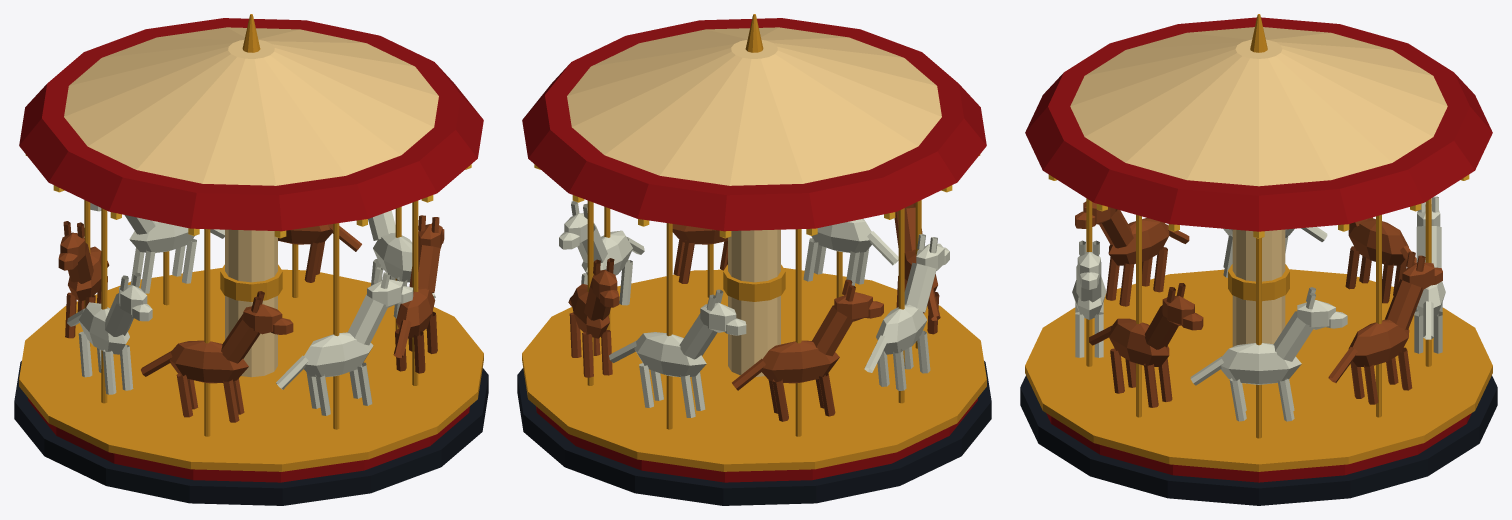
File: LowPolyMerryGoRound.dae
3 views of the same model, side by side, from view 1: azimuth 30°, elevation 25°; view 2: azimuth 150°, elevation 25°; view 3: azimuth 270°, elevation 25° (orthographic).
Parts seen in each view (by area): view 1: Platform_Trim, Canopy_Roof, Canopy_Skirt, Base_Foot, Horse_06, Horse_07, Horse_05, Center_Column, Platform, Horse_08, Horse_03, Horse_04 (+7 smaller); view 2: Platform_Trim, Canopy_Roof, Canopy_Skirt, Base_Foot, Horse_04, Horse_03, Center_Column, Horse_05, Platform, Horse_02, Horse_07, Horse_01 (+7 smaller); view 3: Platform_Trim, Canopy_Roof, Canopy_Skirt, Base_Foot, Horse_01, Horse_02, Horse_08, Horse_06, Center_Column, Platform, Horse_04, Horse_03 (+8 smaller).
Boxes of the visible parts, x1,y1,x2,y2 form: Platform_Trim: [19, 268, 483, 471]; Canopy_Roof: [64, 27, 438, 185]; Canopy_Skirt: [19, 18, 483, 231]; Base_Foot: [14, 361, 488, 505]; Horse_06: [141, 291, 293, 422]; Horse_07: [276, 267, 413, 415]; Horse_05: [67, 272, 152, 394]; Center_Column: [225, 229, 277, 377]; Platform: [28, 398, 469, 482]; Horse_08: [393, 215, 444, 373]; Horse_03: [90, 203, 224, 293]; Horse_04: [58, 221, 109, 338]; Platform_Trim: [522, 268, 986, 471]; Canopy_Roof: [567, 27, 941, 185]; Canopy_Skirt: [522, 18, 986, 231]; Base_Foot: [517, 361, 991, 505]; Horse_04: [732, 279, 883, 421]; Horse_03: [609, 289, 746, 417]; Center_Column: [728, 229, 780, 376]; Horse_05: [864, 234, 949, 390]; Platform: [536, 398, 977, 482]; Horse_02: [568, 258, 619, 377]; Horse_07: [803, 218, 898, 285]; Horse_01: [559, 201, 644, 305]; Platform_Trim: [1025, 269, 1492, 471]; Canopy_Roof: [1070, 27, 1447, 186]; Canopy_Skirt: [1025, 17, 1492, 231]; Base_Foot: [1020, 375, 1497, 505]; Horse_01: [1190, 287, 1347, 421]; Horse_02: [1328, 251, 1442, 404]; Horse_08: [1089, 283, 1203, 407]; Horse_06: [1075, 201, 1189, 306]; Center_Column: [1232, 229, 1285, 346]; Platform: [1046, 413, 1471, 482]; Horse_04: [1345, 217, 1416, 303]; Horse_03: [1414, 196, 1445, 353].
Size of the model in its own units: 6.9 by 6.22 by 6.9.
